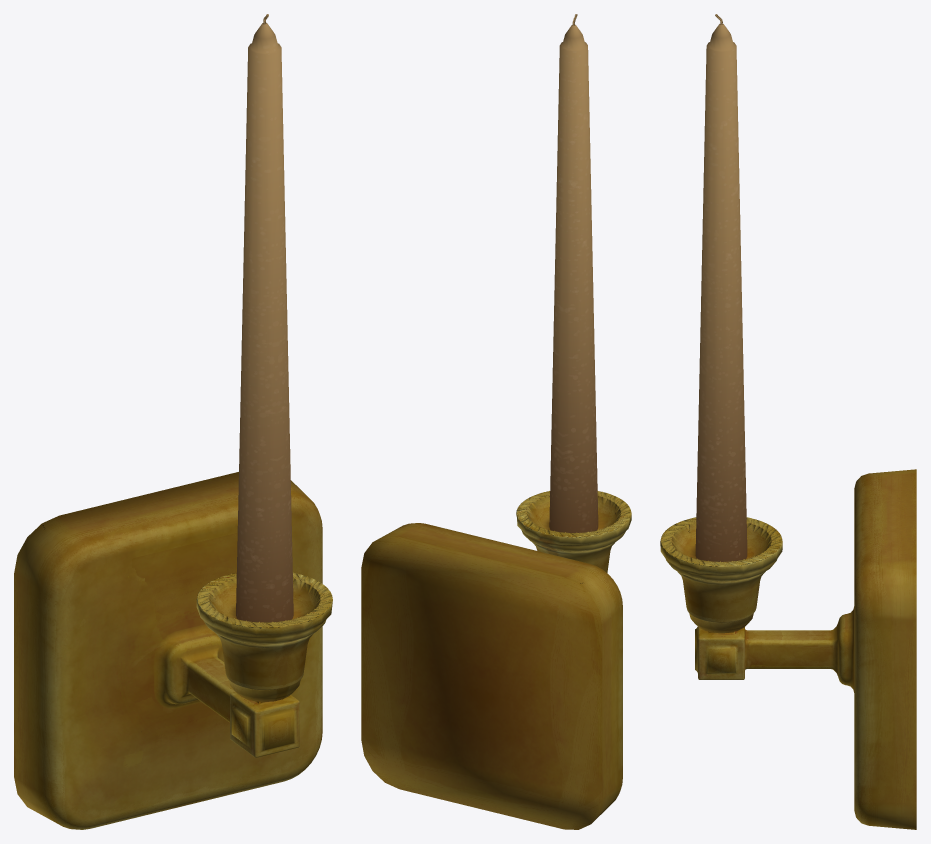
Rendered from wall_fixture_candle.fbx.
3 renders of one model, left to right at view 1: azimuth 30°, elevation 25°; view 2: azimuth 150°, elevation 25°; view 3: azimuth 270°, elevation 25°, orthographic. The views are drawn at different scales.
Visible parts, largest first — view 1: Candle_Stick_Wall_Fixture; view 2: Candle_Stick_Wall_Fixture; view 3: Candle_Stick_Wall_Fixture.
Boxes of the visible parts, x1,y1,x2,y2 form: Candle_Stick_Wall_Fixture: (14, 14, 332, 829); Candle_Stick_Wall_Fixture: (361, 14, 631, 829); Candle_Stick_Wall_Fixture: (660, 14, 916, 829).
Size of the model in its own units: 23.98 by 69.05 by 20.85.
Materials: 2 (2 with a texture image).
